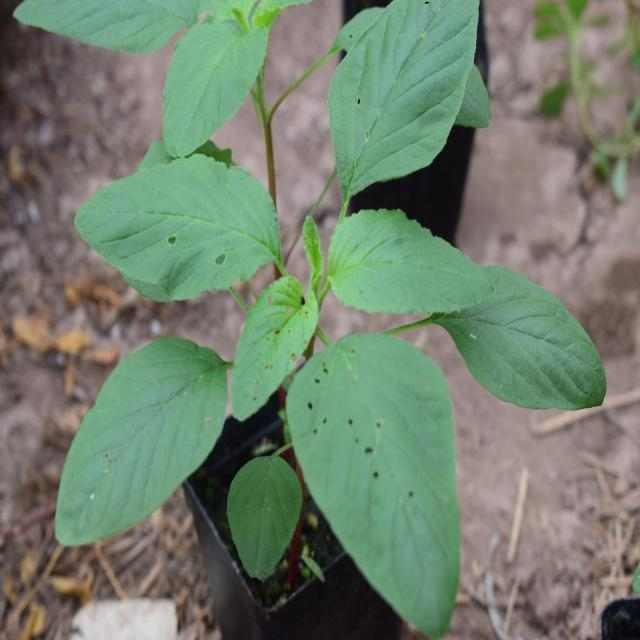pigweed: (64, 37, 560, 616)
